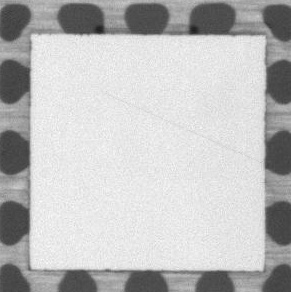DIE_CRACK: (105, 93, 260, 163)
